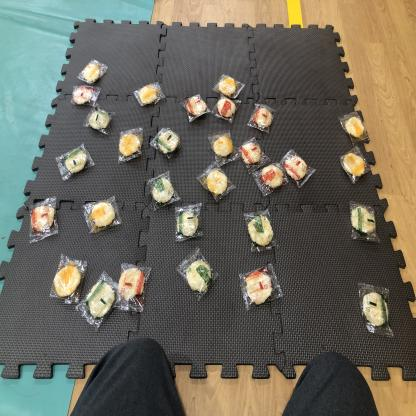green_setoshio: (356, 280, 395, 336), (176, 248, 218, 297), (242, 206, 280, 256), (86, 278, 119, 327), (348, 200, 382, 247), (148, 167, 179, 212), (150, 119, 184, 160), (57, 144, 93, 181), (173, 202, 208, 240), (84, 109, 114, 136)
red_setoshio: (239, 266, 281, 315), (120, 259, 153, 312), (26, 194, 61, 242), (281, 148, 317, 192), (254, 161, 287, 198), (249, 100, 278, 136), (237, 137, 266, 169), (211, 96, 241, 124), (182, 92, 210, 121), (70, 82, 102, 106)
yellow_setoshio: (82, 194, 123, 235), (51, 256, 86, 303), (200, 166, 237, 201), (337, 108, 372, 144), (340, 143, 370, 183), (114, 125, 144, 163), (133, 78, 167, 108), (209, 130, 236, 165), (76, 57, 110, 84), (213, 73, 246, 98)
